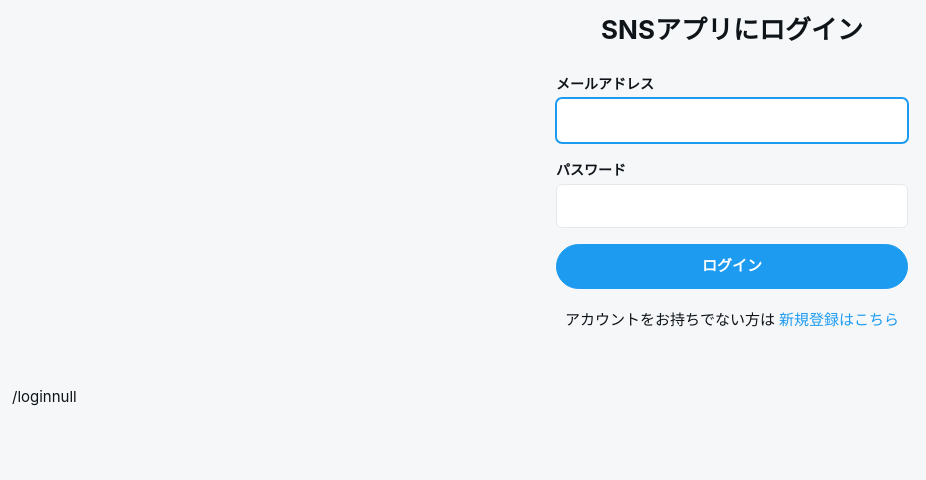
LoginPage：ログイン › もう一度送ったら、前のエラーは消す
Type "a@example.com" into the field labelled "メールアドレス" at (732, 120), box x1=556 y1=98 x2=908 y2=142
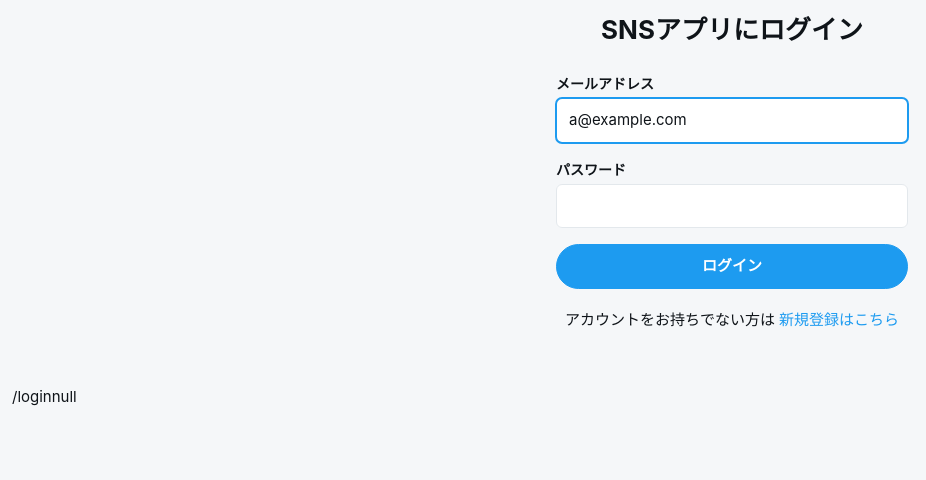
Type "password" into the password field labelled "パスワード" at (732, 206), box x1=556 y1=184 x2=908 y2=228
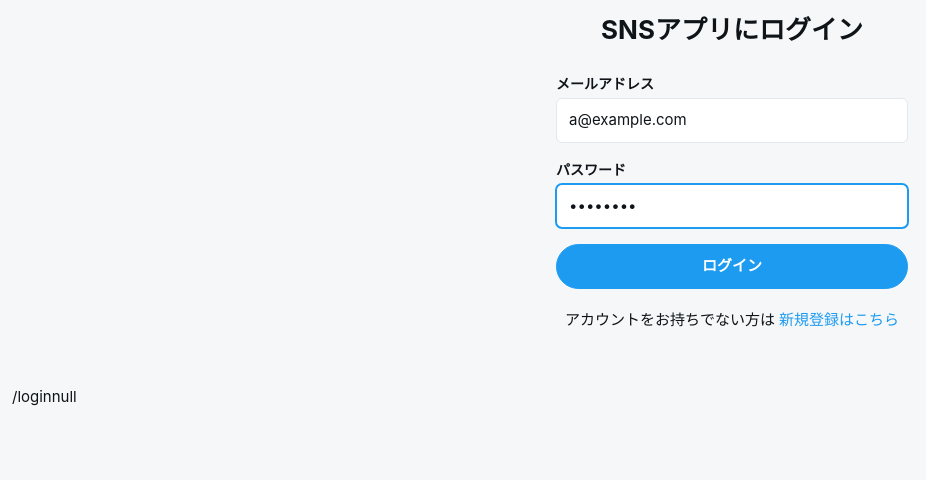
Click the button "ログイン" at (732, 266), box x1=556 y1=244 x2=908 y2=288
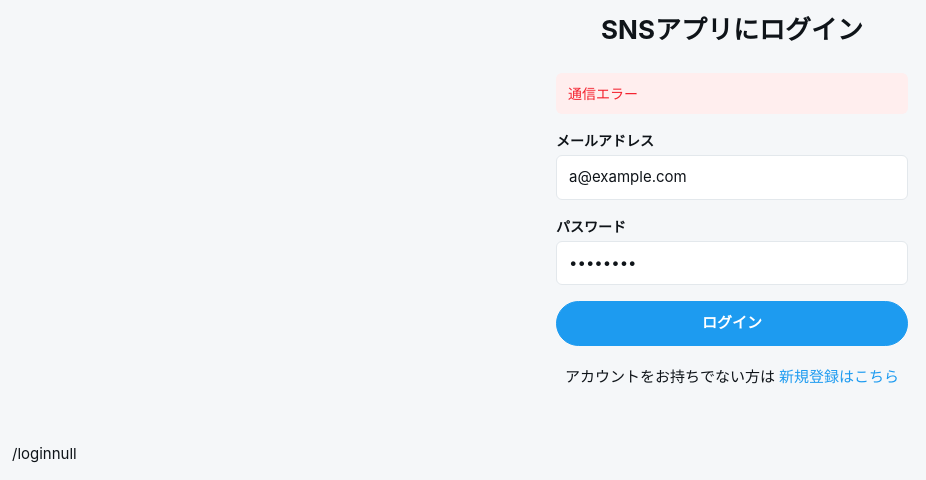
Now the message "通信エラー" is shown, box x1=556 y1=73 x2=908 y2=114
Click the button "ログイン" at (732, 323), box x1=556 y1=301 x2=908 y2=346
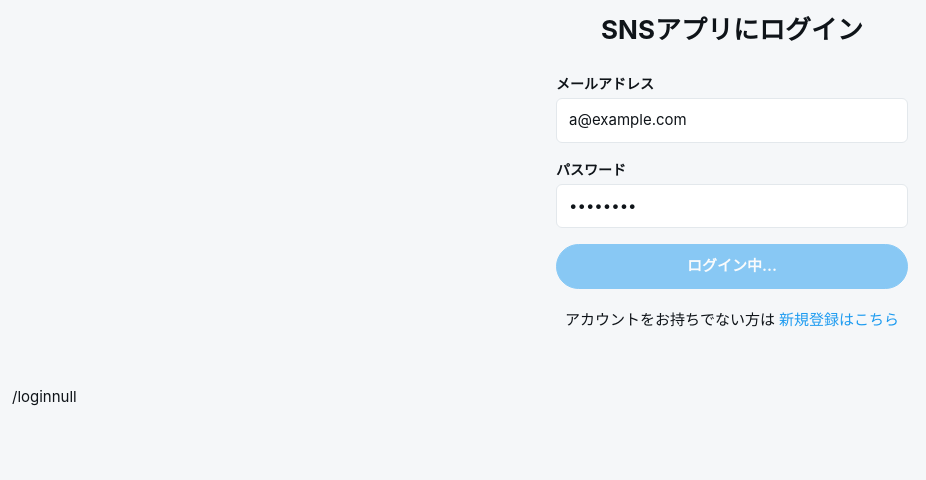
Now the message "通信エラー" is gone
